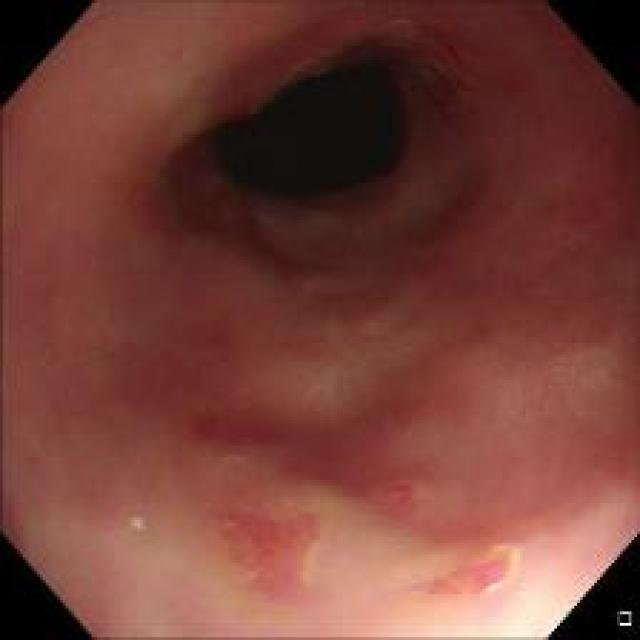color misalignment: (118, 512, 149, 538)
contrast: (204, 46, 419, 204)
saturation: (496, 588, 559, 638)
